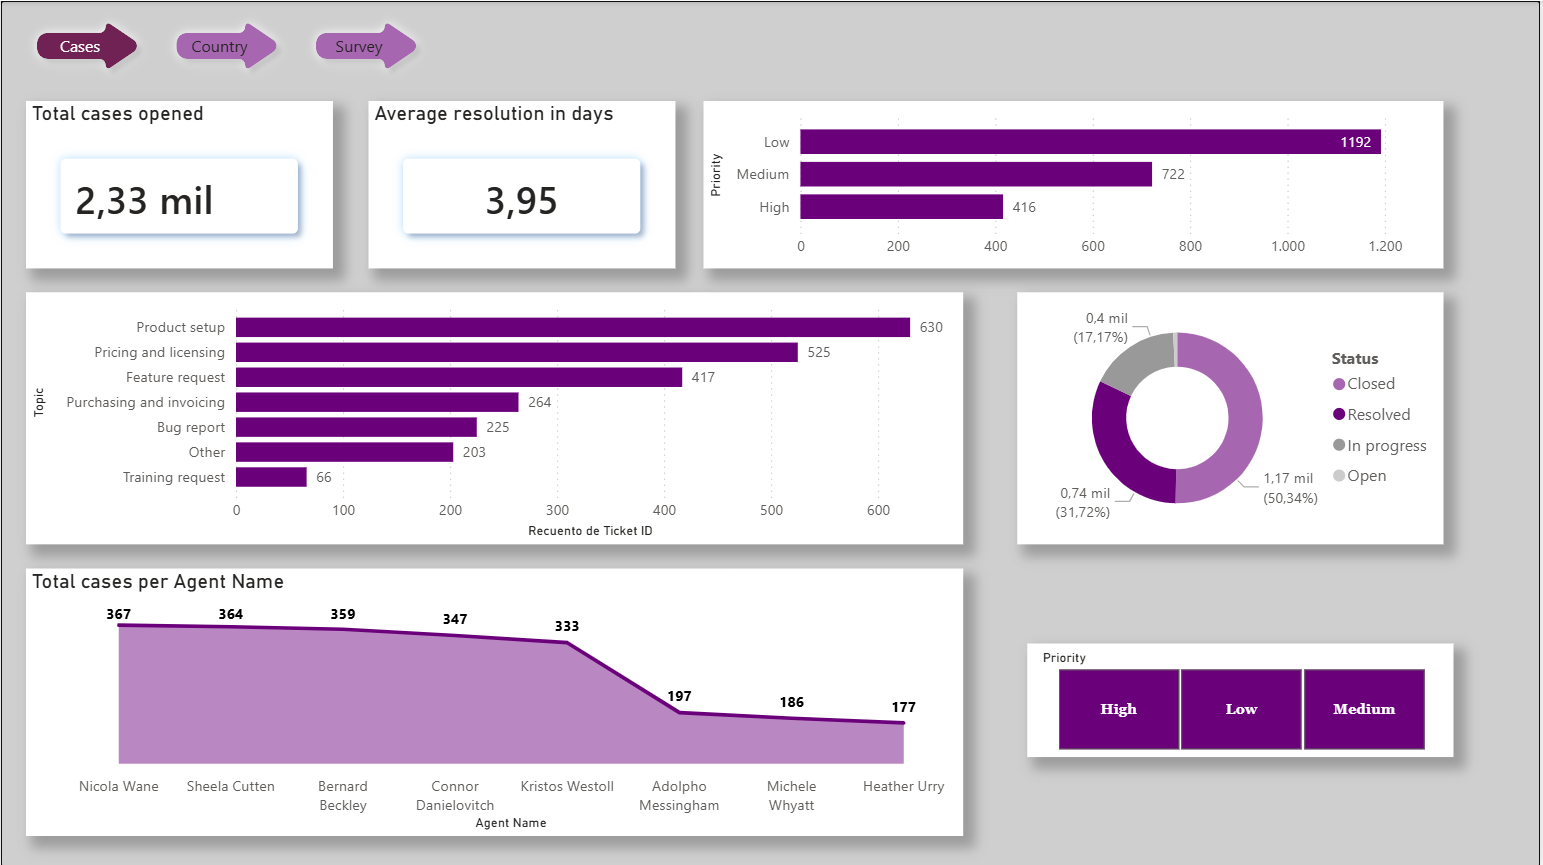

The dashboard page shown, as its layout file describes it:
{"tool":"powerbi","page":{"name":"Cases","canvas":[1280,720],"ordinal":0},"visuals":[{"type":"cardVisual","title":"Total cases opened","fields":{"Data":["CountNonNull(Tabla1.Ticket ID)"]},"box":[21.1,83.1,255.1,139.2],"z":0},{"type":"donutChart","fields":{"Category":["Tabla1.Status"],"Y":["CountNonNull(Tabla1.Ticket ID)"]},"box":[844.8,242.2,354.5,209.4],"z":1000},{"type":"cardVisual","title":"Average resolution in days","fields":{"Data":["Tabla1.Average Resolution time"]},"box":[305.4,83.1,255.1,139.2],"z":2000},{"type":"barChart","fields":{"Category":["Tabla1.Topic"],"Y":["CountNonNull(Tabla1.Ticket ID)"]},"box":[21.1,242.2,779.2,209.4],"z":3000},{"type":"barChart","fields":{"Y":["CountNonNull(Tabla1.Ticket ID)"],"Category":["Tabla1.Priority"]},"box":[583.8,83.1,615.4,139.2],"z":4000},{"type":"areaChart","title":"Total cases per Agent Name","fields":{"Y":["CountNonNull(Tabla1.Ticket ID)"],"Category":["Tabla1.Agent Name"]},"box":[21.1,471.5,779.2,222.3],"z":5000},{"type":"pageNavigator","box":[21.1,7,338.1,60.8],"z":6000},{"type":"slicer","fields":{"Values":["Tabla1.Priority"]},"box":[852.9,534.7,354.5,94.8],"z":7000}]}

Visuals, with their boxes in screenshot pixels (x1, y1, x2, y2), scaled from the page's 1280x720 canvas onto the 1543x865 screenshot:
"Total cases opened" cardVisual: [25,100,333,267]
donutChart - Tabla1.Status x CountNonNull(Tabla1.Ticket ID): [1018,291,1446,543]
"Average resolution in days" cardVisual: [368,100,676,267]
barChart - Tabla1.Topic x CountNonNull(Tabla1.Ticket ID): [25,291,965,543]
barChart - CountNonNull(Tabla1.Ticket ID) x Tabla1.Priority: [704,100,1446,267]
"Total cases per Agent Name" areaChart: [25,566,965,834]
pageNavigator: [25,8,433,81]
slicer - Tabla1.Priority: [1028,642,1455,756]
